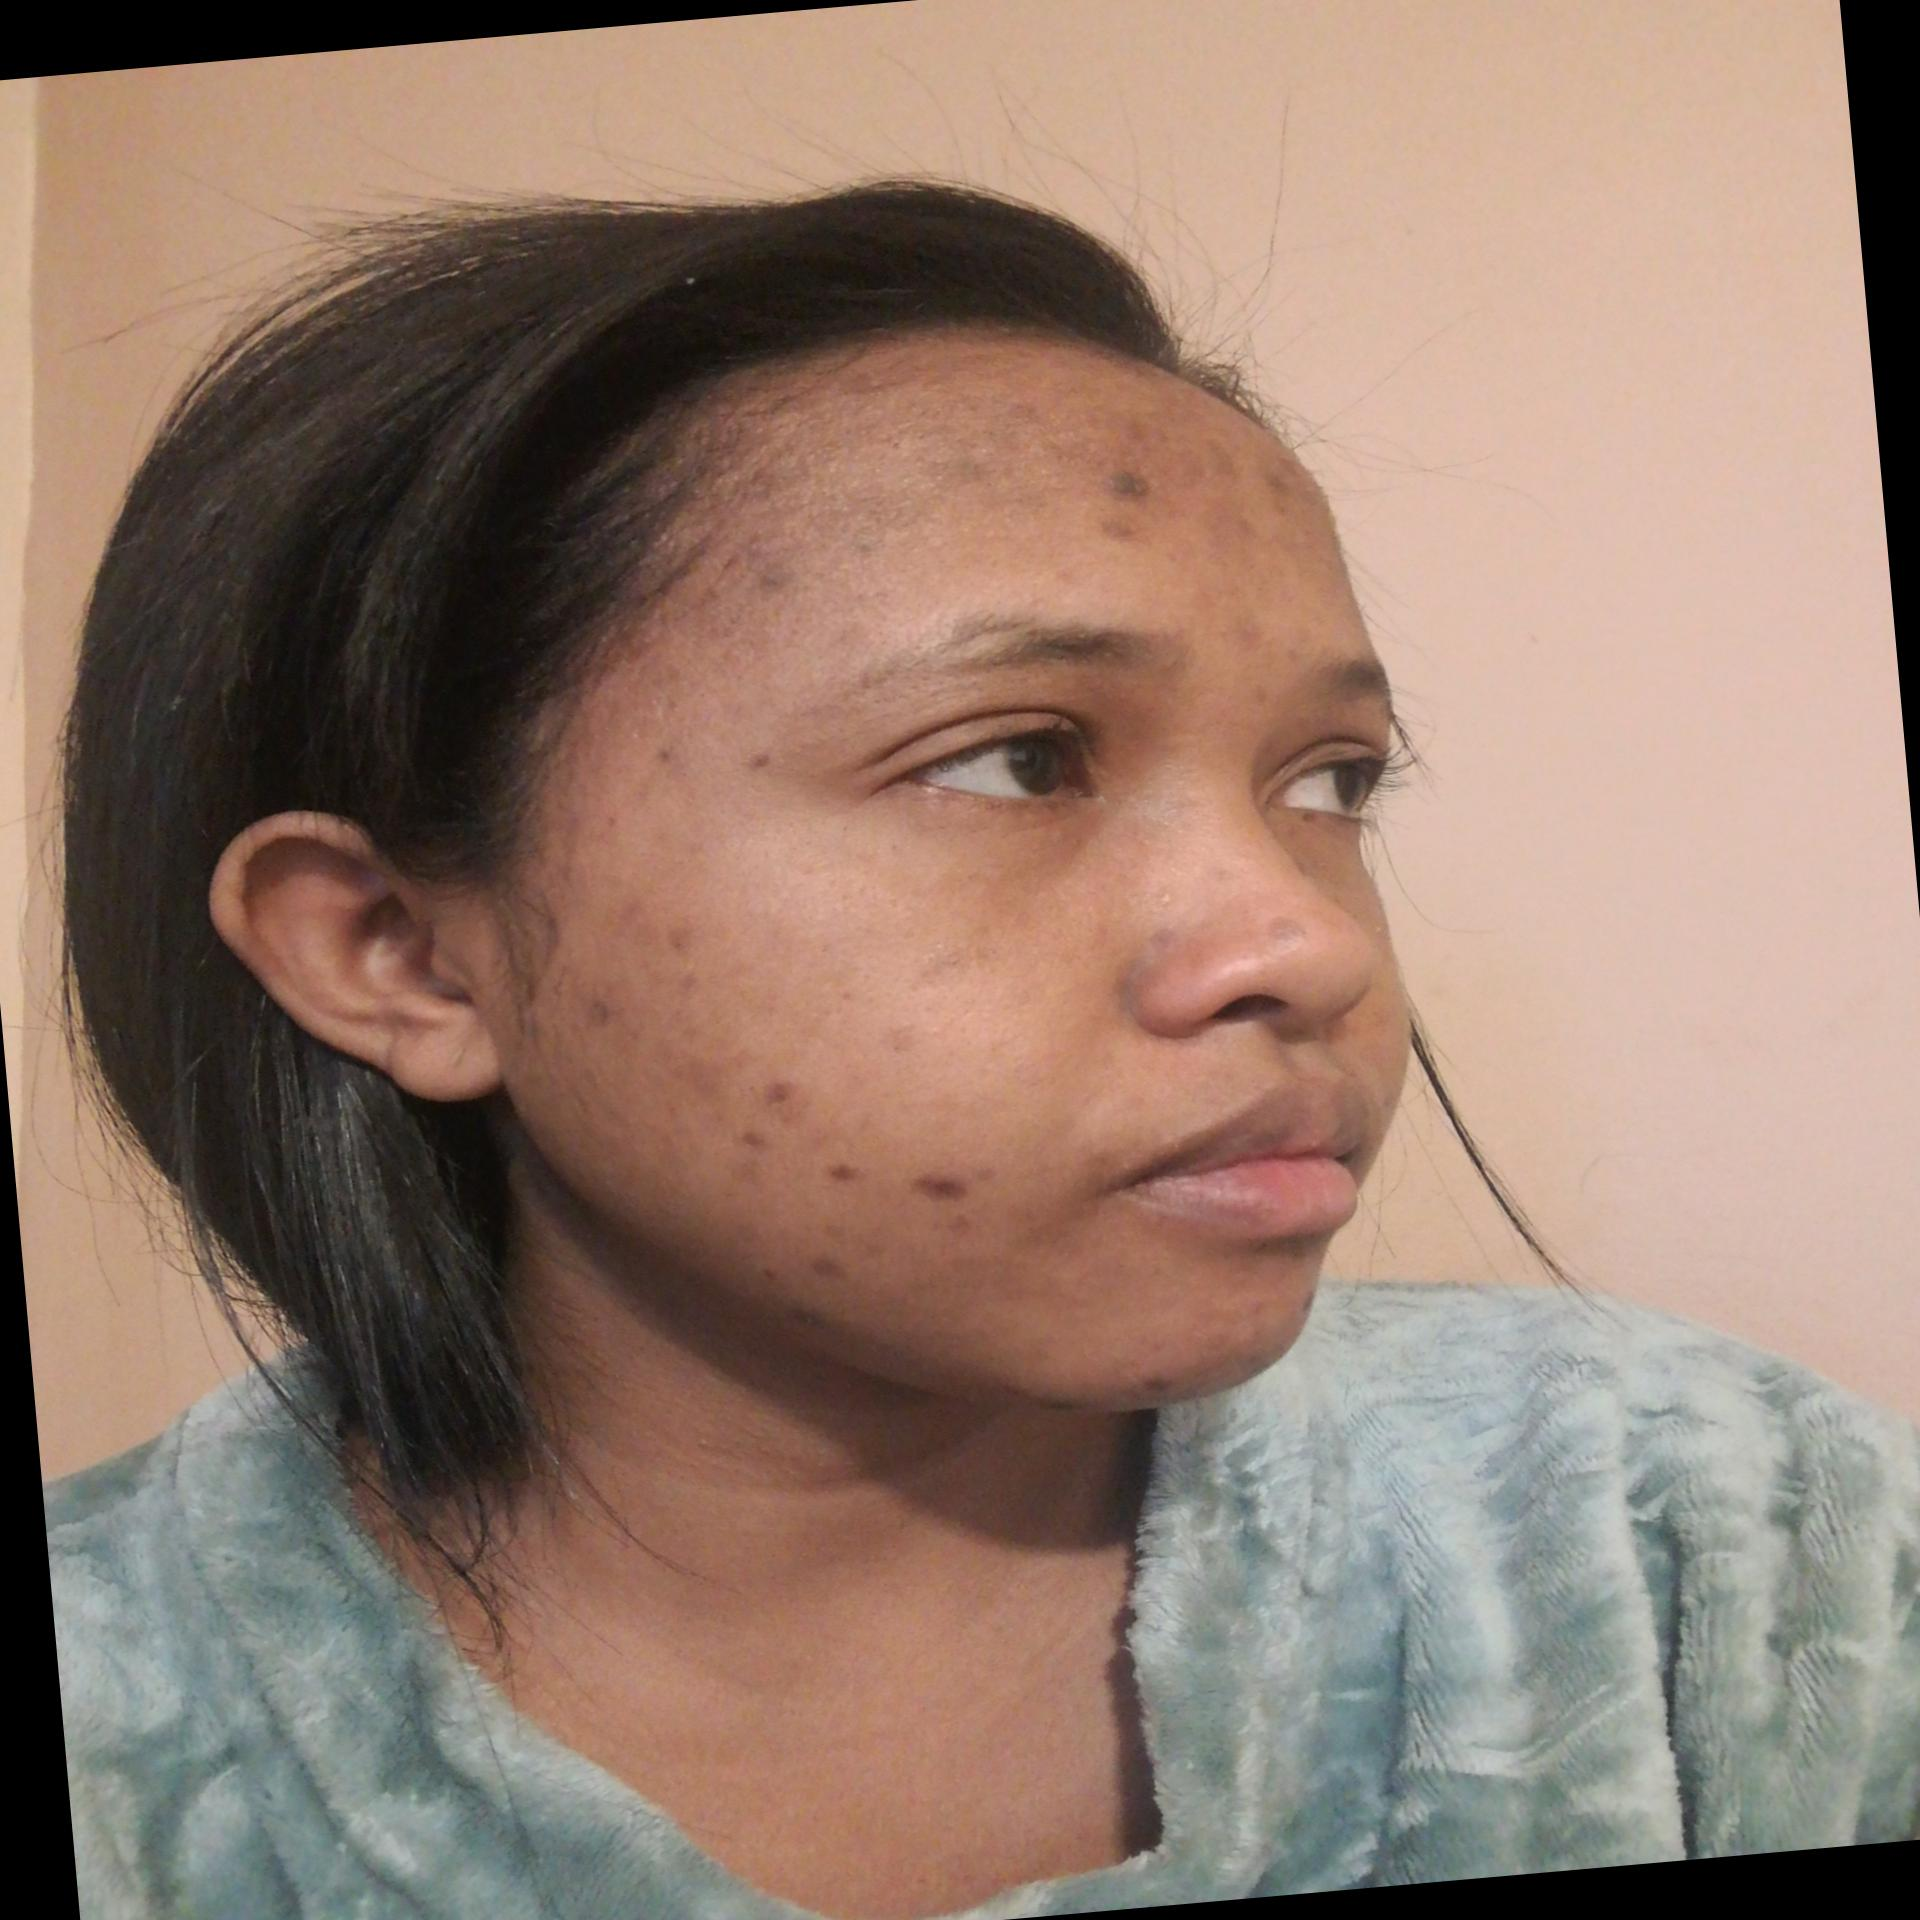Acne: (893, 397, 1043, 492), (823, 485, 949, 573), (742, 1255, 835, 1336), (601, 884, 703, 956), (700, 547, 807, 614), (1155, 422, 1248, 491), (1190, 492, 1262, 571), (898, 941, 972, 995), (1002, 1377, 1088, 1421), (904, 1162, 1000, 1201), (1211, 601, 1275, 658), (791, 1241, 860, 1289), (1255, 455, 1306, 519), (1095, 455, 1159, 505), (747, 1069, 811, 1115), (809, 1152, 872, 1194), (571, 986, 624, 1034), (1250, 907, 1306, 951), (730, 740, 784, 782), (872, 1025, 923, 1069), (1087, 512, 1146, 547), (1125, 1366, 1187, 1398), (1134, 918, 1178, 962), (925, 1206, 983, 1238), (659, 962, 702, 1004), (809, 1215, 865, 1243), (728, 1127, 774, 1157), (1285, 1280, 1322, 1317), (1203, 856, 1234, 898), (638, 737, 687, 763), (1243, 677, 1278, 714), (1292, 809, 1320, 832)
